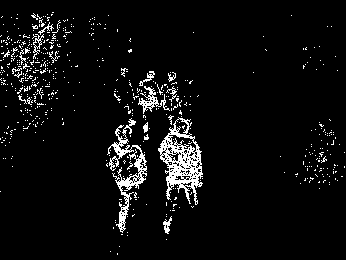person: (158, 118, 204, 235), (104, 123, 149, 234), (136, 68, 161, 142), (112, 66, 138, 127), (159, 69, 184, 130)
